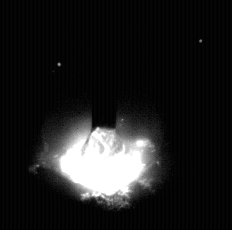arame: (92, 0, 118, 131)
poca: (42, 0, 163, 230)
